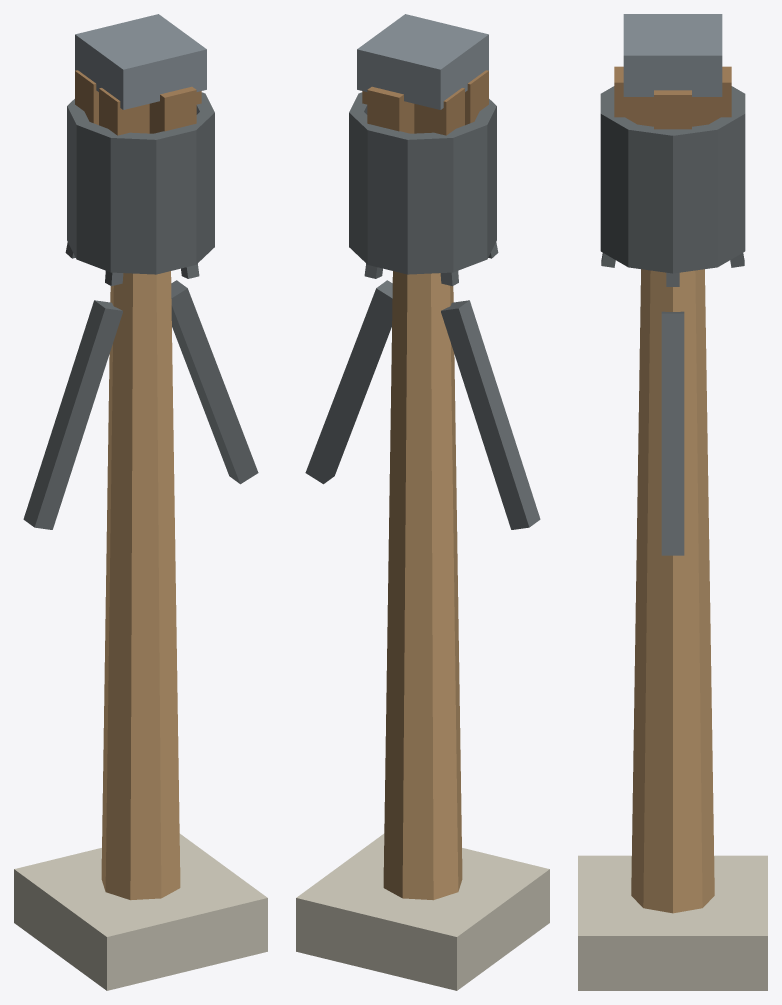
File: torch-post.glb
3 views of the same model, side by side, from view 1: azimuth 30°, elevation 25°; view 2: azimuth 150°, elevation 25°; view 3: azimuth 270°, elevation 25° (orthographic). The views are drawn at different scales.
Visible parts, largest first — view 1: torch-post; view 2: torch-post; view 3: torch-post.
Part boxes in pixels (bbox=[...]): torch-post: bbox=[14, 14, 267, 990]; torch-post: bbox=[296, 14, 549, 990]; torch-post: bbox=[578, 14, 767, 990].
Size of the model in its own units: 0.6964 by 2.66 by 0.5.
